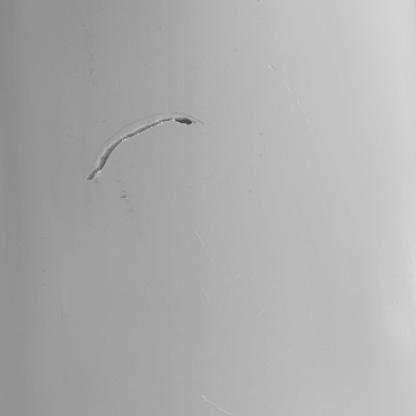fengxi: (84, 115, 196, 181)
